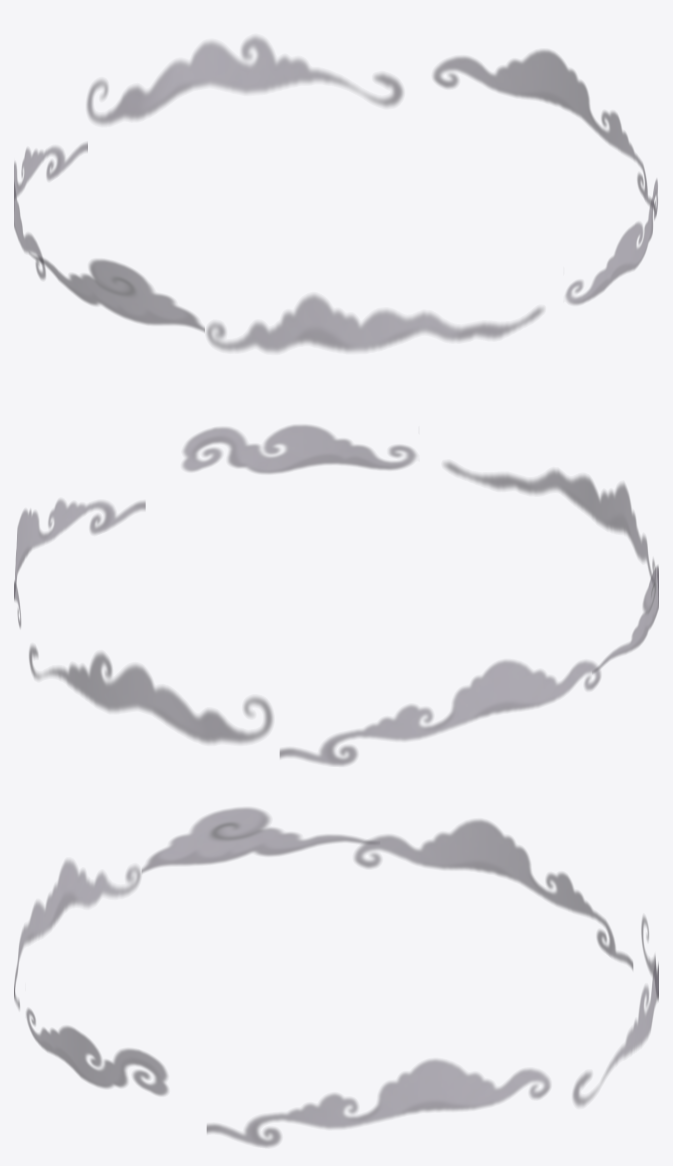
Rendered from Clouds01.glb.
The picture shows the model from 3 angles, top to bottom: view 1: azimuth 30°, elevation 25°; view 2: azimuth 150°, elevation 25°; view 3: azimuth 270°, elevation 25°; orthographic projection.
Visible parts, largest first — view 1: Clouds01; view 2: Clouds01; view 3: Clouds01.
Boxes of the visible parts, x1,y1,x2,y2 form: Clouds01: (14,36,657,352); Clouds01: (14,425,658,765); Clouds01: (14,807,658,1147).
Bounding box in the file's own units: 78.66 × 14.07 × 78.82.
Materials: 1 (1 with a texture image).
